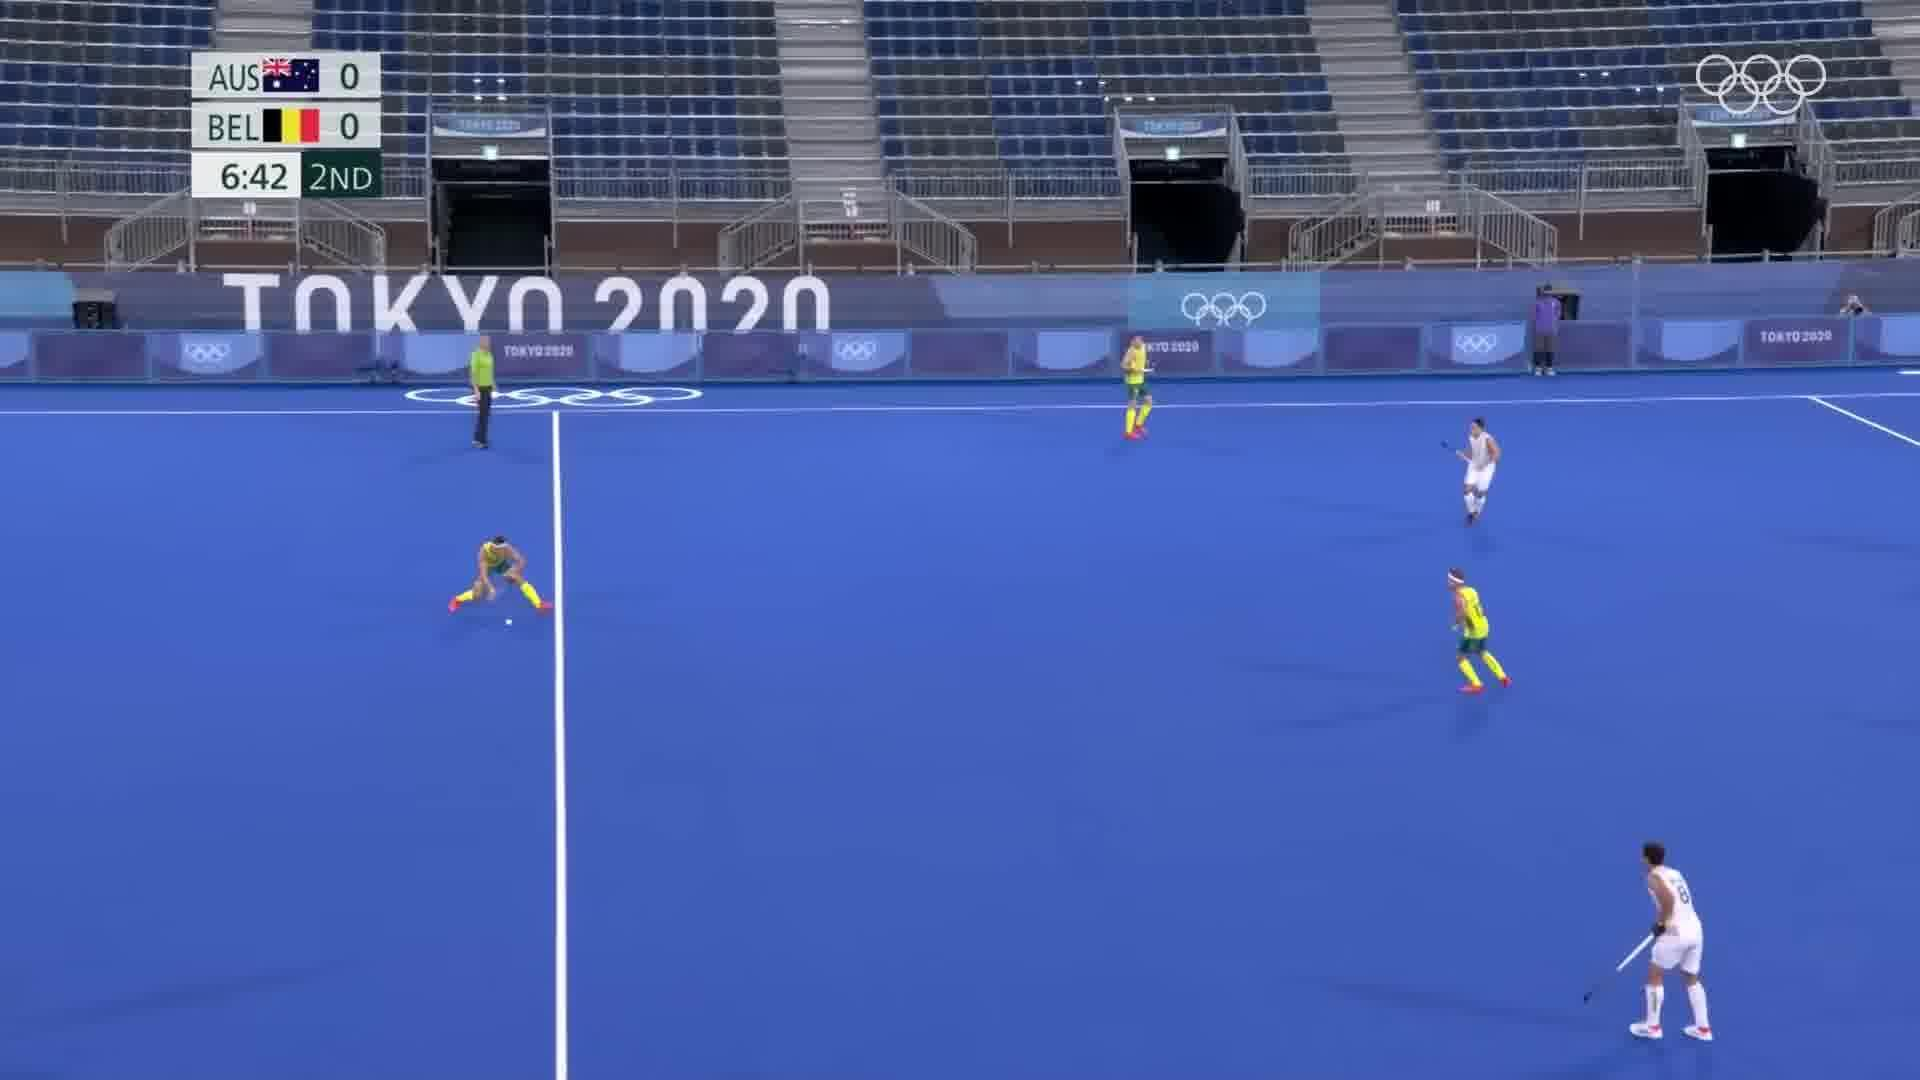ball: (501, 615, 514, 629)
